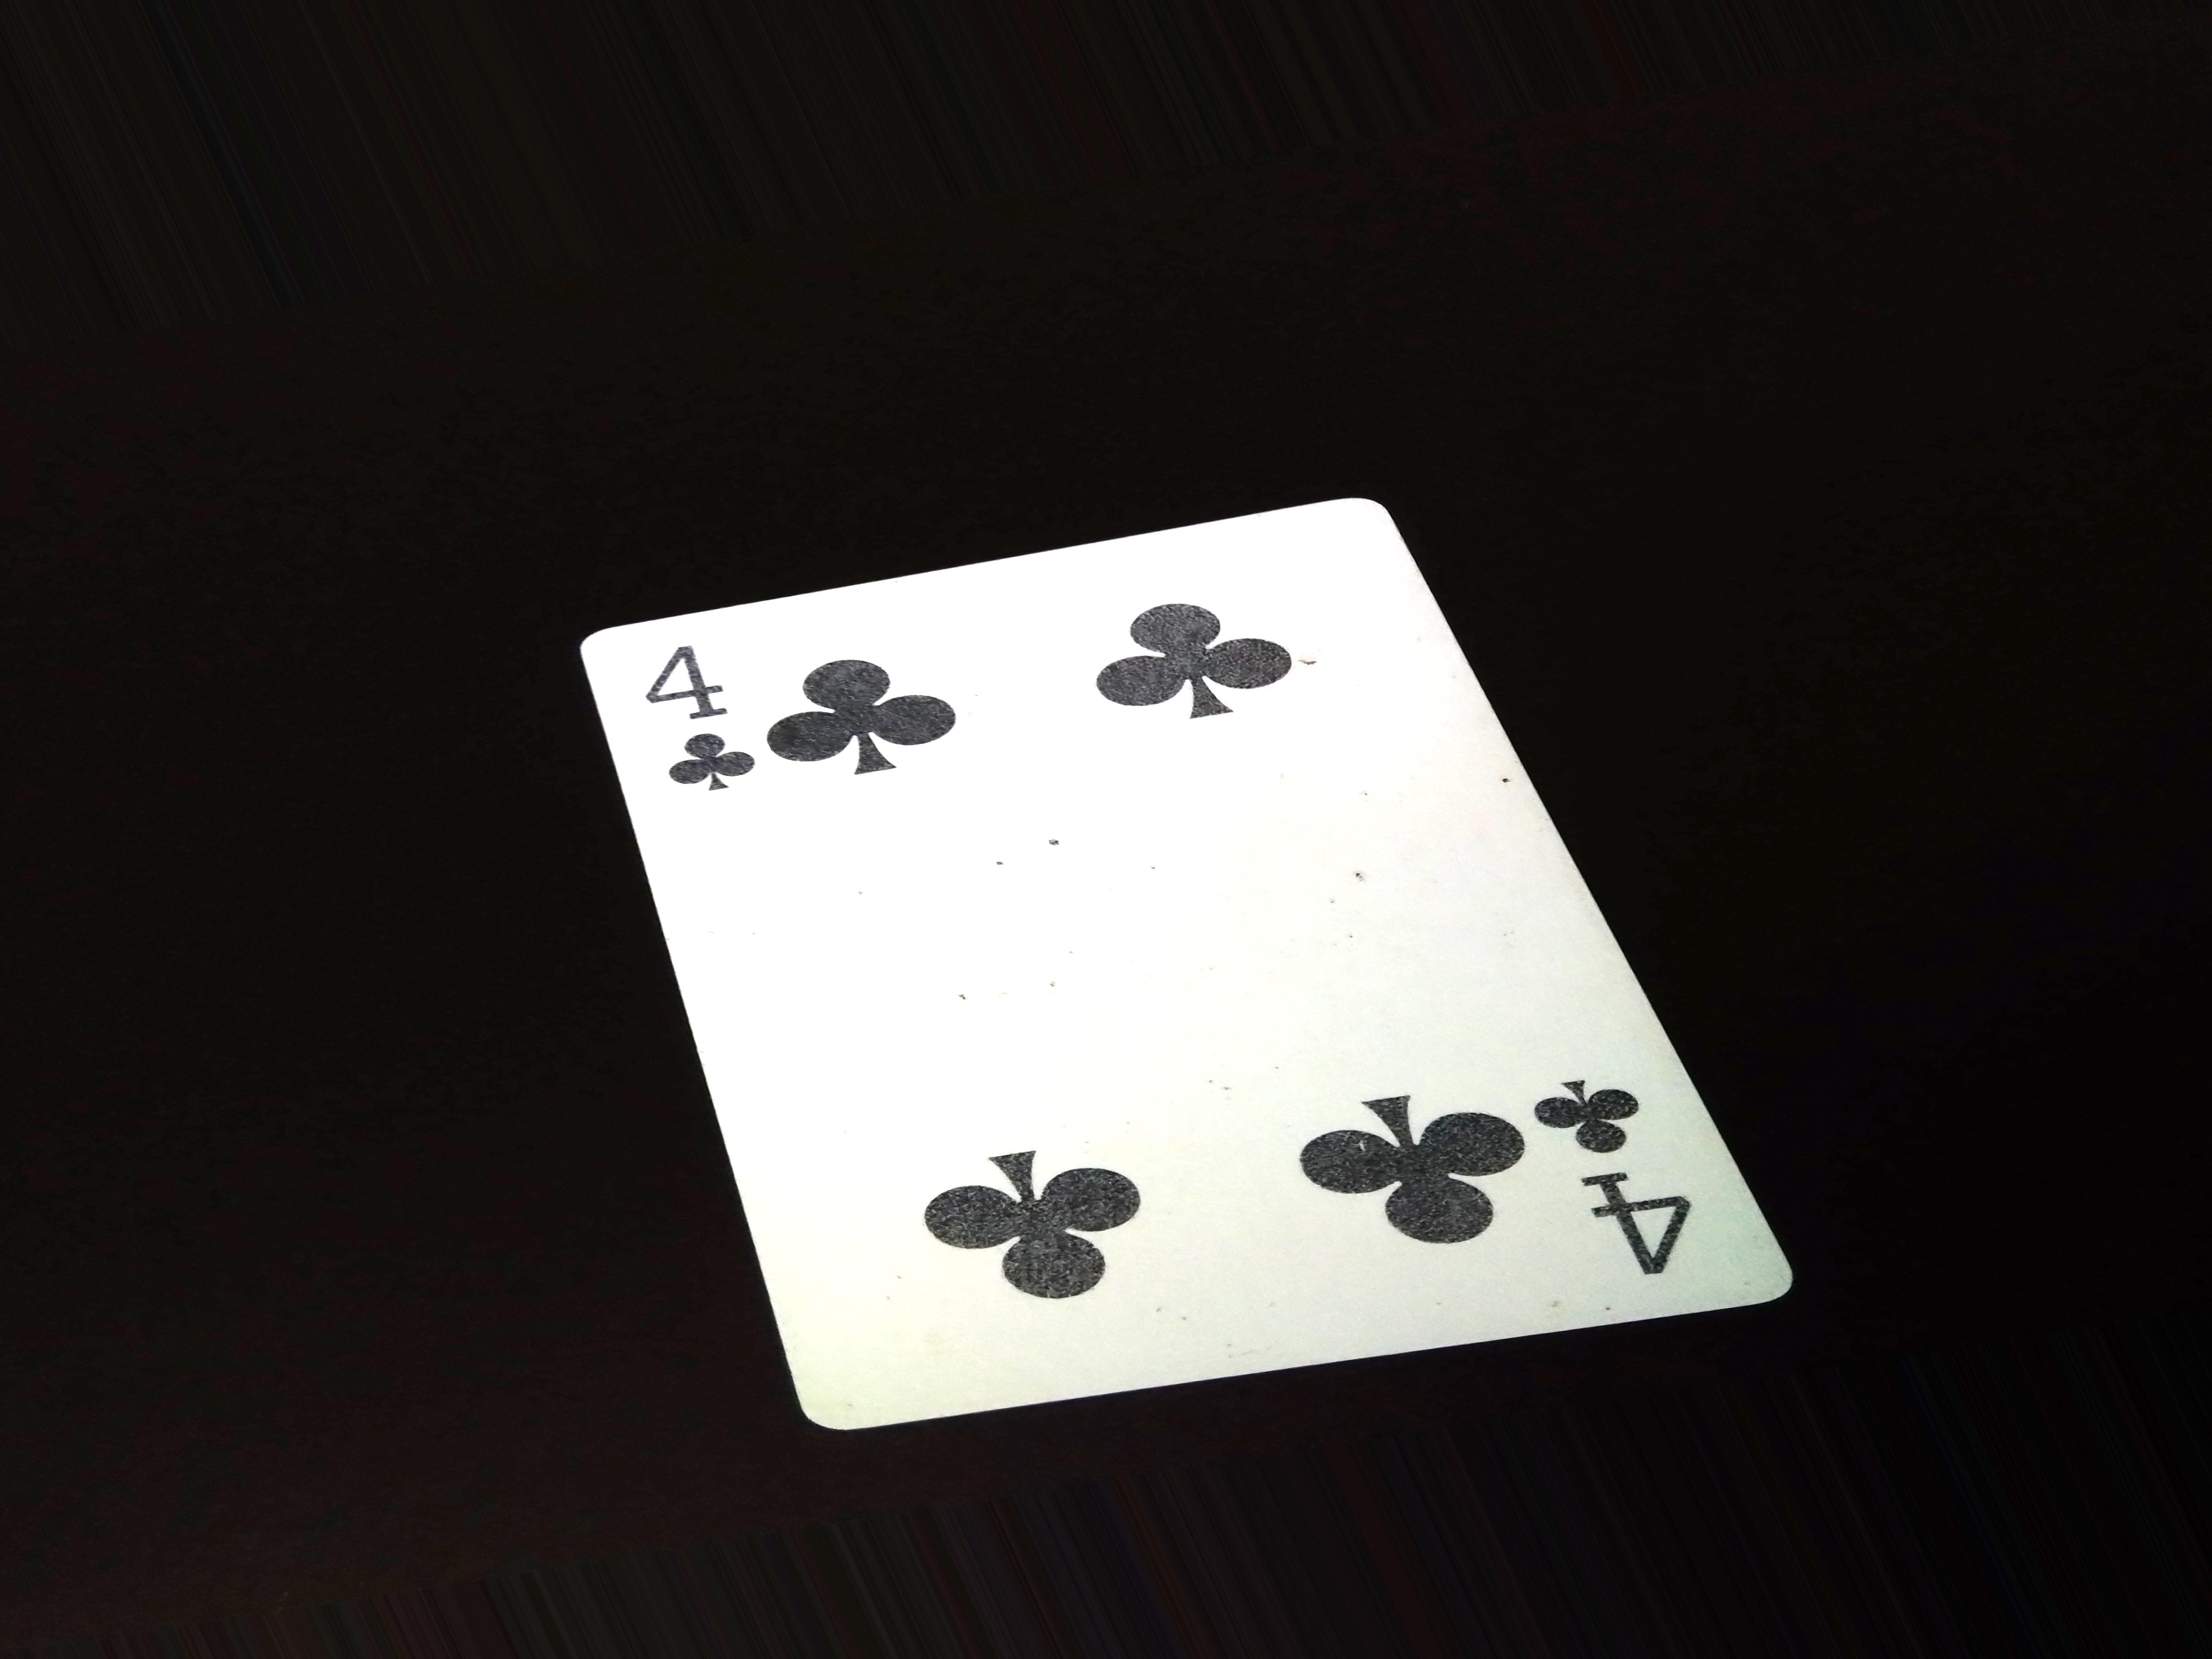4C: (1533, 1054, 1709, 1321)
